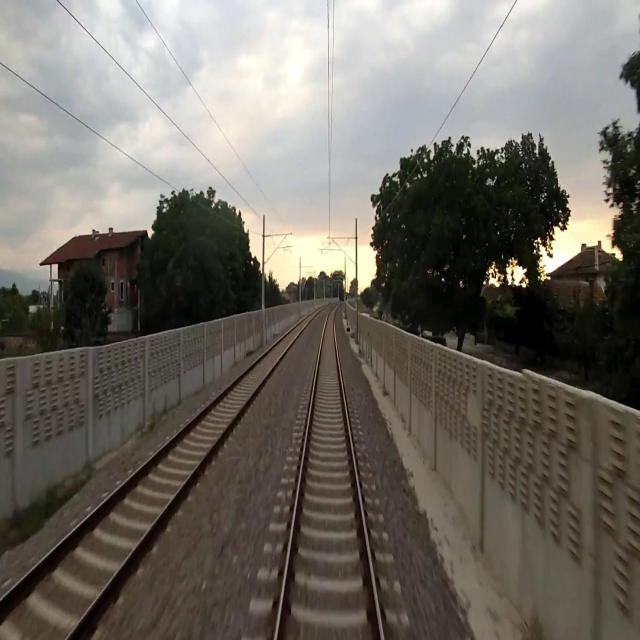rail-track: (0, 313, 313, 639), (279, 308, 379, 639)
